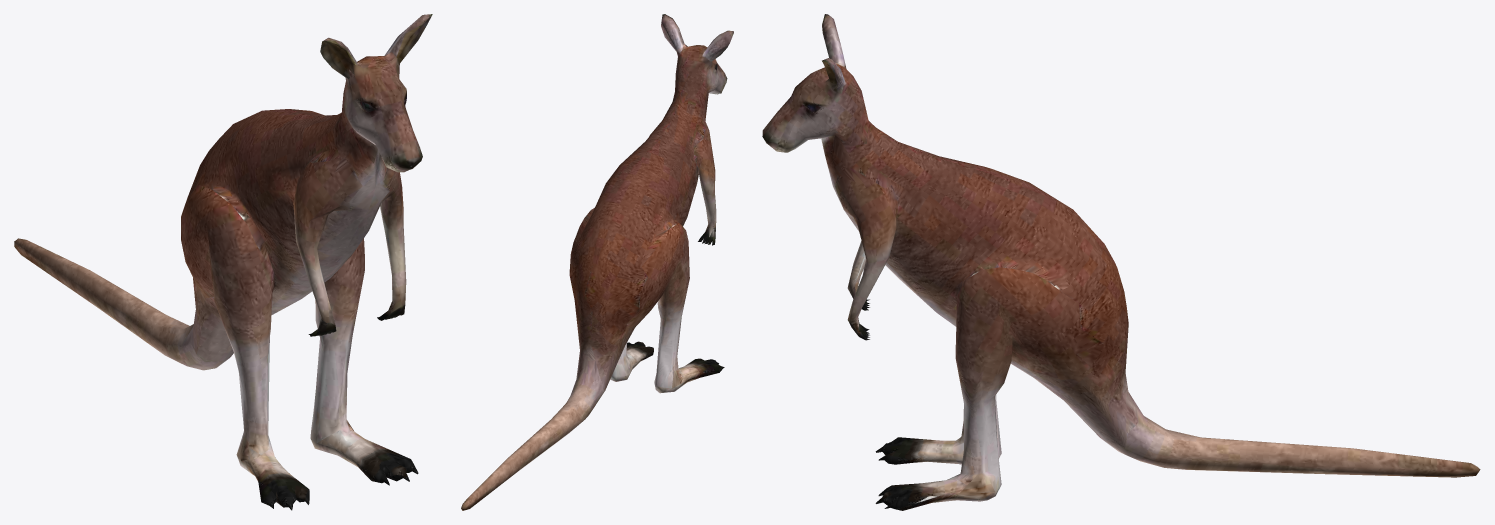
The model's file is kangaroo.gltf.
3 views of the same model, side by side, from view 1: azimuth 30°, elevation 25°; view 2: azimuth 150°, elevation 25°; view 3: azimuth 270°, elevation 25° (orthographic). The views are drawn at different scales.
Parts seen in each view (by area): view 1: 12271_Kangaroo_v1_L3.004; view 2: 12271_Kangaroo_v1_L3.004; view 3: 12271_Kangaroo_v1_L3.004.
Part boxes in pixels (x1,y1,x2,y2): 12271_Kangaroo_v1_L3.004: (14,14,432,510); 12271_Kangaroo_v1_L3.004: (461,14,733,510); 12271_Kangaroo_v1_L3.004: (762,14,1480,510).
Bounding box in the file's own units: 13.56 × 42.41 × 62.1.
2 materials, 2 textured.
